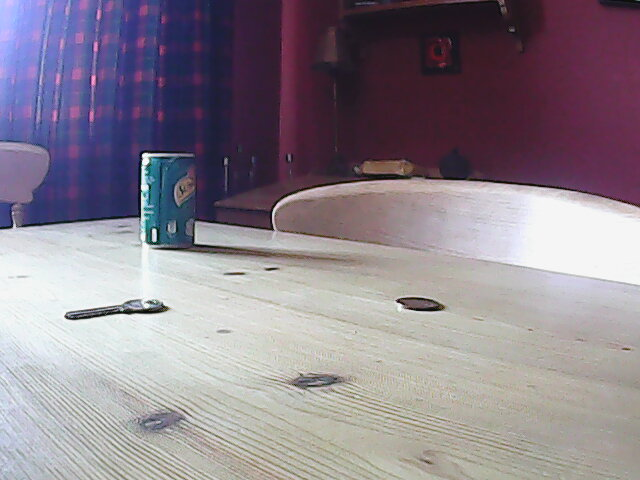Can: (136, 149, 198, 257)
Coin: (392, 293, 444, 314)
Key: (61, 297, 170, 321)
